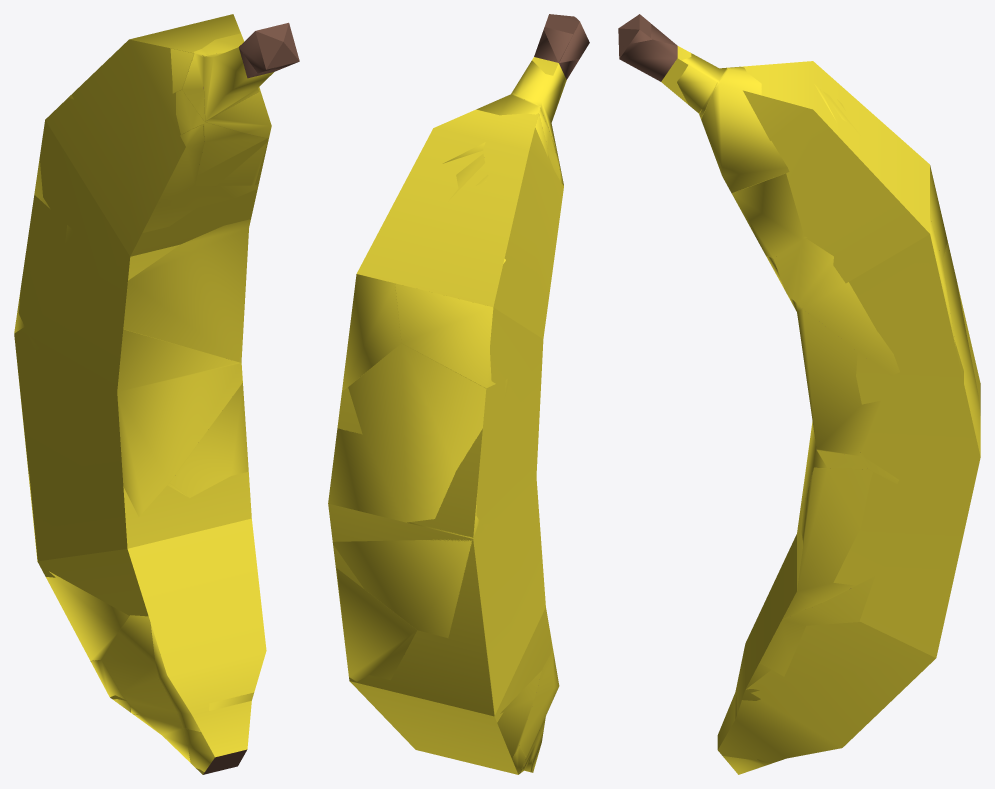
The model's file is banana.glb.
3 renders of one model, left to right at view 1: azimuth 30°, elevation 25°; view 2: azimuth 150°, elevation 25°; view 3: azimuth 270°, elevation 25°, orthographic. The views are drawn at different scales.
Parts seen in each view (by area): view 1: origin, pasted__pCube11 group_cell.037, pasted__pCube11 group_cell.017, pasted__pCube11 group_cell.019, pasted__pCube11 group_cell.004, pasted__pCube11 group_cell.018, pasted__pCube11 group_cell.001, pasted__pCube11 group_cell.002, pasted__pCube11 group_cell.032, pasted__pCube11 group_cell.020, pasted__pCube11 group_cell, pasted__pCube11 group_cell.014 (+5 smaller); view 2: origin, pasted__pCube11 group_cell.033, pasted__pCube11 group_cell.022, pasted__pCube11 group_cell.009, pasted__pCube11 group_cell.029, pasted__pCube11 group_cell.031, pasted__pCube11 group_cell.032, pasted__pCube11 group_cell.001, pasted__pCube11 group_cell.019, pasted__pCube11 group_cell.002, pasted__pCube11 group_cell.014, pasted__pCube11 group_cell.018; view 3: origin, pasted__pCube11 group_cell.004, pasted__pCube11 group_cell.017, pasted__pCube11 group_cell.031, pasted__pCube11 group_cell.002, pasted__pCube11 group_cell.018, pasted__pCube11 group_cell.029, pasted__pCube11 group_cell.032, pasted__pCube11 group_cell.033, pasted__pCube11 group_cell.037, pasted__pCube11 group_cell.009, pasted__pCube11 group_cell.014.
Boxes of the visible parts, x1,y1,x2,y2 form: origin: [14, 14, 294, 774]; pasted__pCube11 group_cell.037: [117, 329, 242, 516]; pasted__pCube11 group_cell.017: [123, 214, 251, 362]; pasted__pCube11 group_cell.019: [102, 615, 182, 728]; pasted__pCube11 group_cell.004: [169, 383, 248, 497]; pasted__pCube11 group_cell.018: [176, 90, 267, 185]; pasted__pCube11 group_cell.001: [28, 474, 128, 660]; pasted__pCube11 group_cell.002: [182, 33, 271, 138]; pasted__pCube11 group_cell.032: [204, 42, 299, 120]; pasted__pCube11 group_cell.020: [142, 185, 258, 232]; pasted__pCube11 group_cell: [156, 124, 204, 204]; pasted__pCube11 group_cell.014: [239, 22, 294, 73]; origin: [328, 14, 579, 774]; pasted__pCube11 group_cell.033: [328, 343, 509, 530]; pasted__pCube11 group_cell.022: [332, 514, 486, 646]; pasted__pCube11 group_cell.009: [395, 259, 505, 388]; pasted__pCube11 group_cell.029: [336, 568, 416, 681]; pasted__pCube11 group_cell.031: [342, 274, 401, 391]; pasted__pCube11 group_cell.032: [512, 29, 579, 152]; pasted__pCube11 group_cell.001: [486, 647, 541, 758]; pasted__pCube11 group_cell.019: [519, 650, 553, 764]; pasted__pCube11 group_cell.002: [443, 92, 557, 163]; pasted__pCube11 group_cell.014: [544, 14, 589, 62]; pasted__pCube11 group_cell.018: [448, 148, 560, 201]; origin: [619, 14, 980, 765]; pasted__pCube11 group_cell.004: [782, 468, 872, 619]; pasted__pCube11 group_cell.017: [788, 296, 880, 455]; pasted__pCube11 group_cell.031: [774, 215, 955, 375]; pasted__pCube11 group_cell.002: [701, 66, 835, 193]; pasted__pCube11 group_cell.018: [732, 91, 860, 257]; pasted__pCube11 group_cell.029: [760, 507, 874, 676]; pasted__pCube11 group_cell.032: [619, 40, 727, 118]; pasted__pCube11 group_cell.033: [859, 242, 980, 483]; pasted__pCube11 group_cell.037: [800, 421, 867, 512]; pasted__pCube11 group_cell.009: [930, 165, 947, 261]; pasted__pCube11 group_cell.014: [618, 14, 676, 48].
Size of the model in its own units: 1.85 by 8.71 by 3.84.
